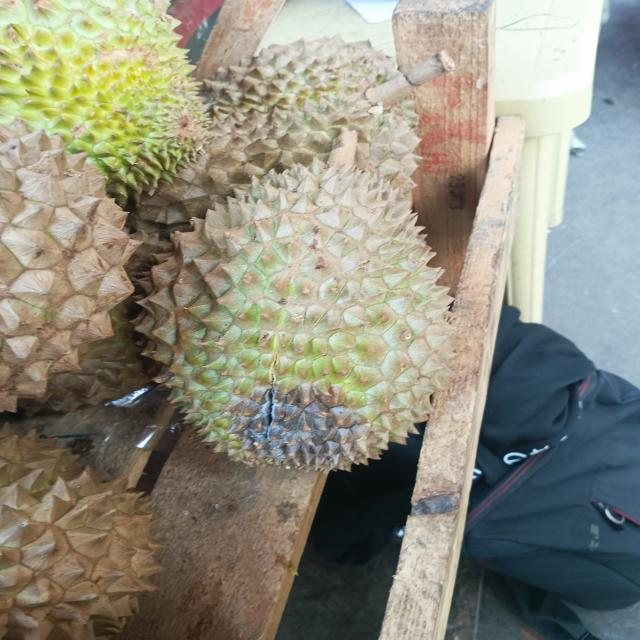defective: (136, 160, 452, 471)
mature: (0, 0, 209, 203), (0, 120, 139, 411), (0, 424, 162, 640), (262, 68, 395, 142)
